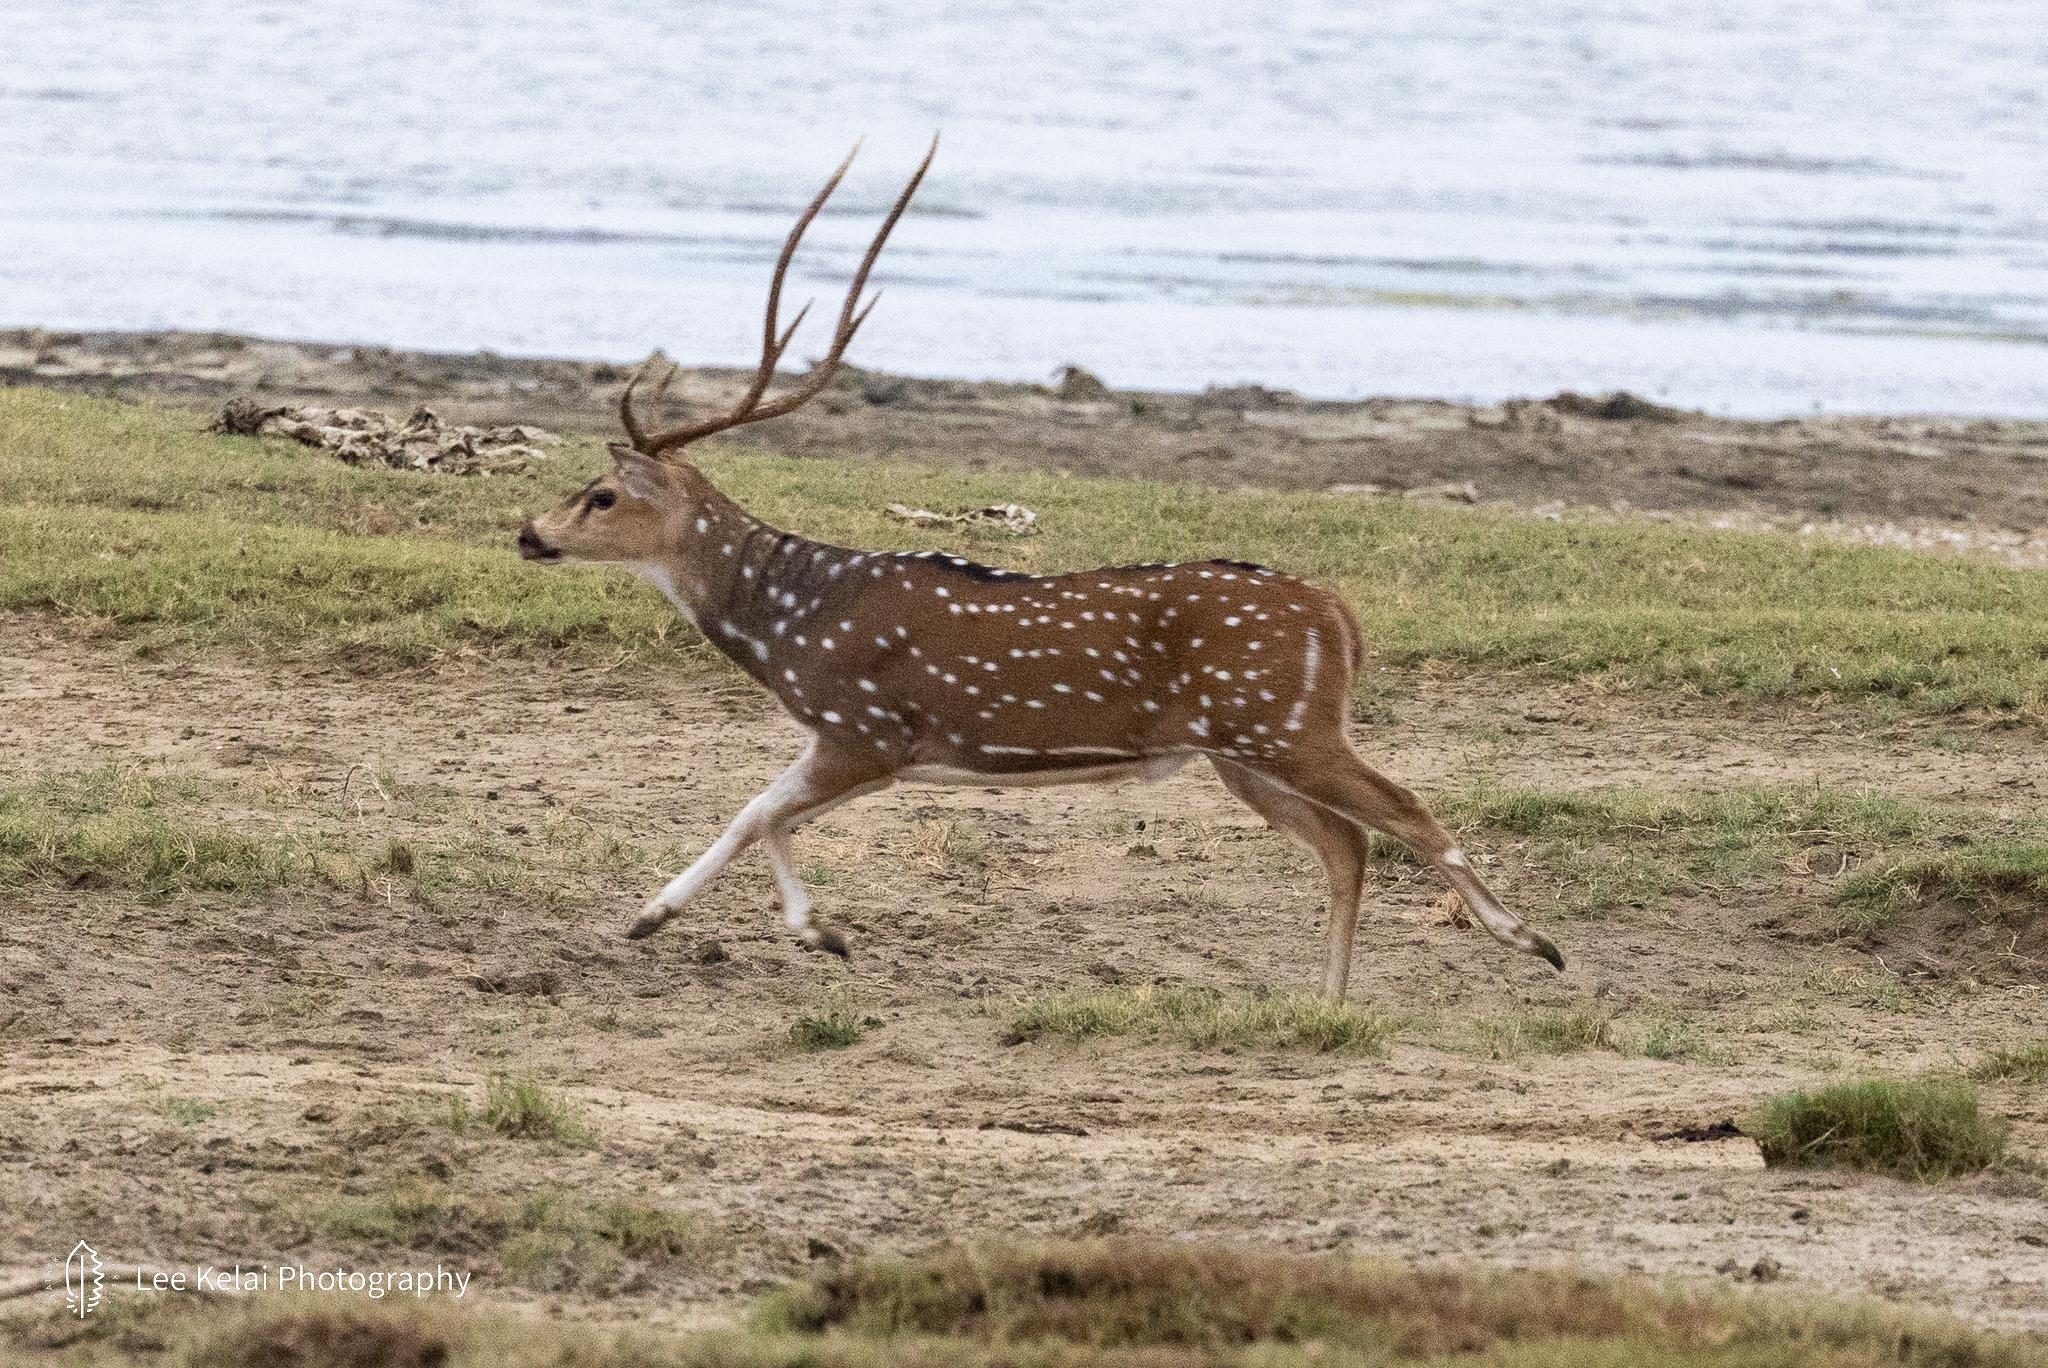Deer: (517, 140, 1564, 994)
